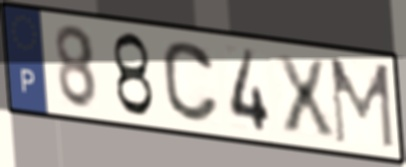4: (226, 45, 273, 135)
8: (52, 22, 99, 112), (111, 30, 156, 118)
C: (159, 39, 222, 126)
M: (327, 56, 398, 153)
X: (272, 51, 338, 140)
